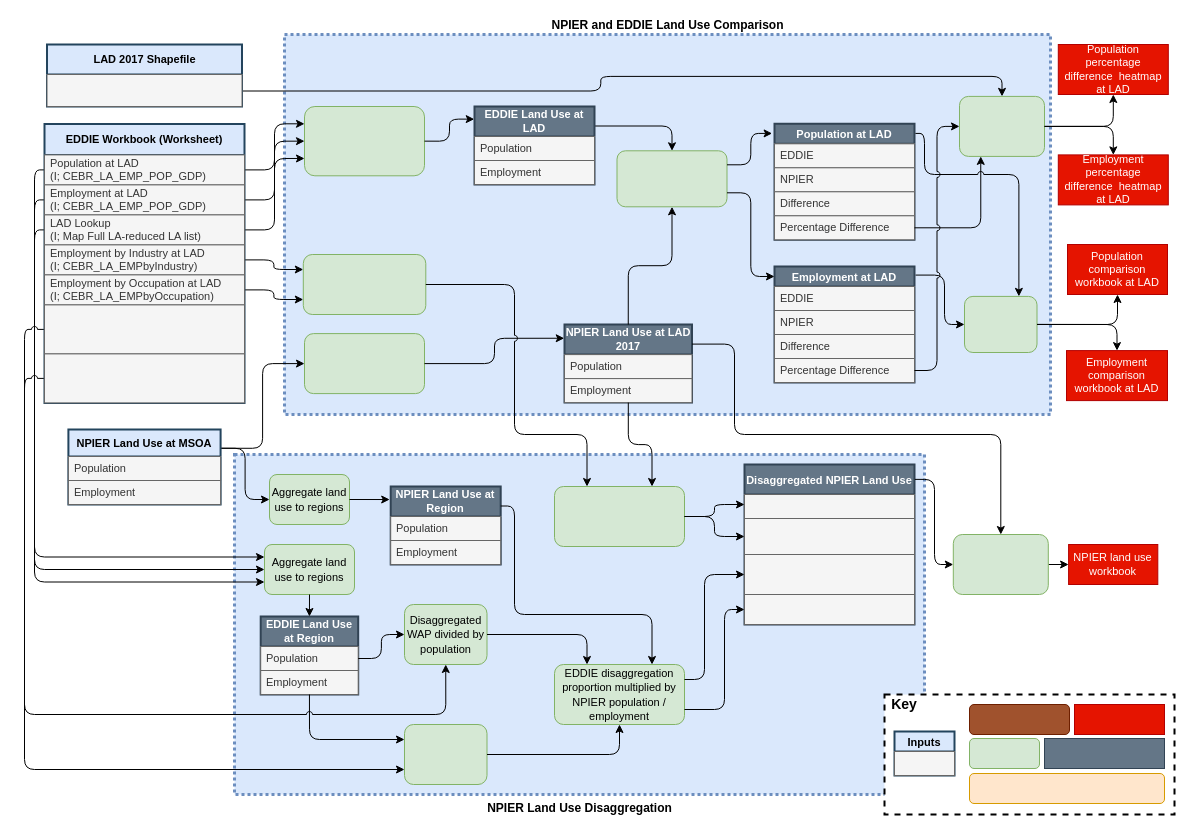
Image size: 1193x832. Some labels were removed from this diagram. The shapes that lost their labels are listed below. From the top down, each one's centre as x and y in pixels, then its label:
At point (144, 90): "LAD 2017 geometries".
At point (364, 141): "Load EDDIE land use and add LAD ID".
At point (1001, 125): "Produce comparison heatmaps".
At point (671, 178): "Join EDDIE and NPIER together".
At point (364, 284): "Disaggregated employment divided by EDDIE employment, (LAD)".
At point (144, 329): "Working Age Population (WAP) by Region (I; CEBR_Regions_WOR_WAP)".
At point (1000, 323): "Write comparison workbook".
At point (144, 378): "Residence-based Employment (WOR) by Region (I; CEBR_Regions_WOR_WAP)".
At point (364, 363): "Load NPIER land use and translate to LAD 2017".
At point (619, 516): "EDDIE disaggregation proportion multiplied by NPIER employment".
At point (829, 506): "Employment by Industry at LAD".
At point (829, 536): "Employment by Occupation at LAD".
At point (829, 574): "Working Age Population by Region".
At point (1000, 564): "Write NPIER data to workbook in EDDIE format".
At point (829, 609): "Residence-based Employment by Region".
At point (1019, 719): "External Process".
At point (1119, 719): "Output".
At point (445, 754): "Disaggregated WOR divided by employment".
At point (924, 763): "Input Info".
At point (1004, 753): "Process".
At point (1104, 753): "Intermediate Output".
At point (1066, 788): "External NorMITs Demand Tool".
